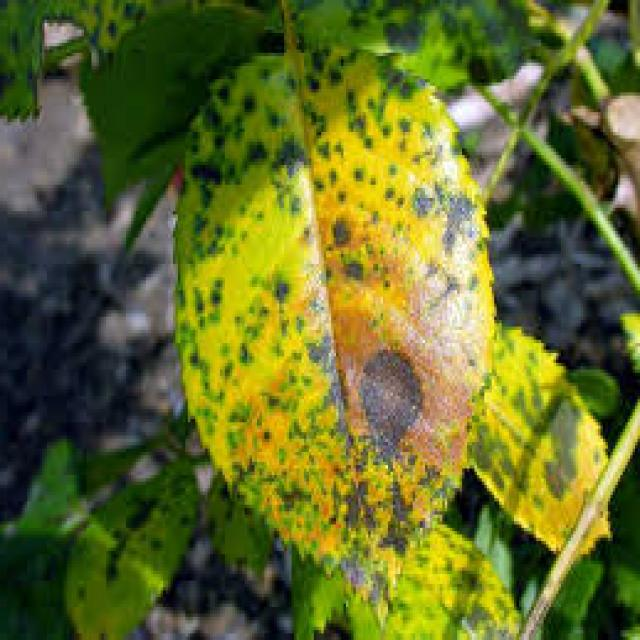black-spot: (225, 334, 439, 610)
